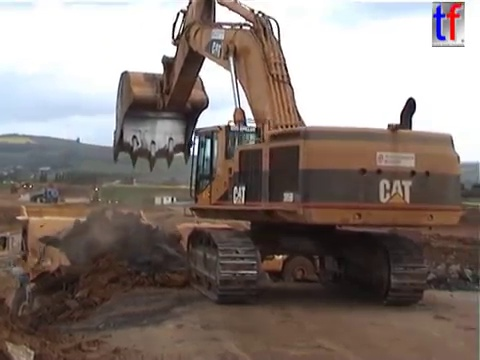excavator: (109, 1, 468, 309)
truck: (1, 205, 201, 339), (256, 201, 419, 288), (170, 219, 252, 290), (7, 182, 21, 196)
